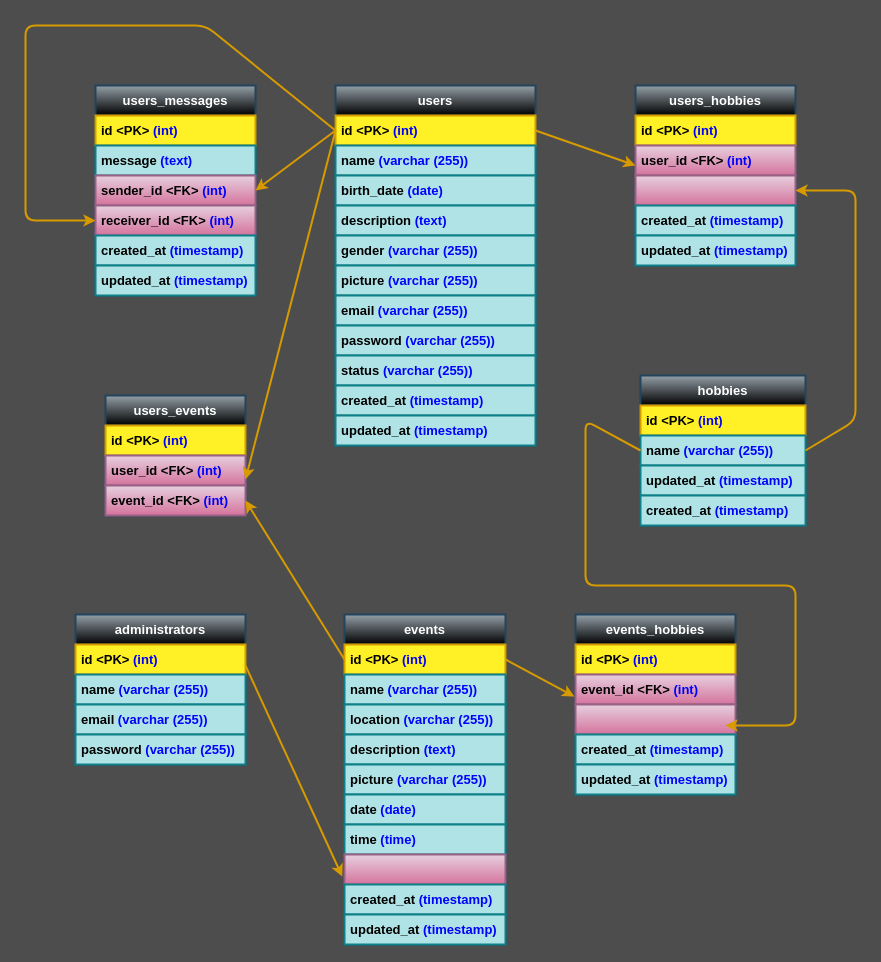
Image size: 881x962. Some labels were removed from this diagram. Each missing label, with the centre of its shape:
"admin_id <FK> (int)" belongs at (424,869).
"hobby_id <FK> (int )" belongs at (715,190).
"hobby_id <FK> (int)" belongs at (655,719).
